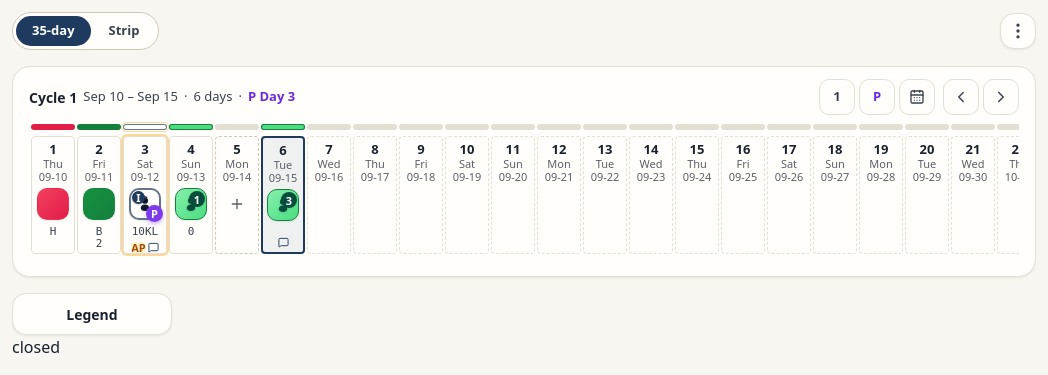
Test: ChartRow interactions › opens a saved day, a native button, with a click
Press a in the button with aria-label "Cycle Day 1, Date 2026-09-10", box [31,136,75,254]
Expected: the text with test id "drawer" reads "closed", [12,336,60,358]
Click the button with aria-label "Cycle Day 1, Date 2026-09-10": click(53, 195) [31,136,75,254]
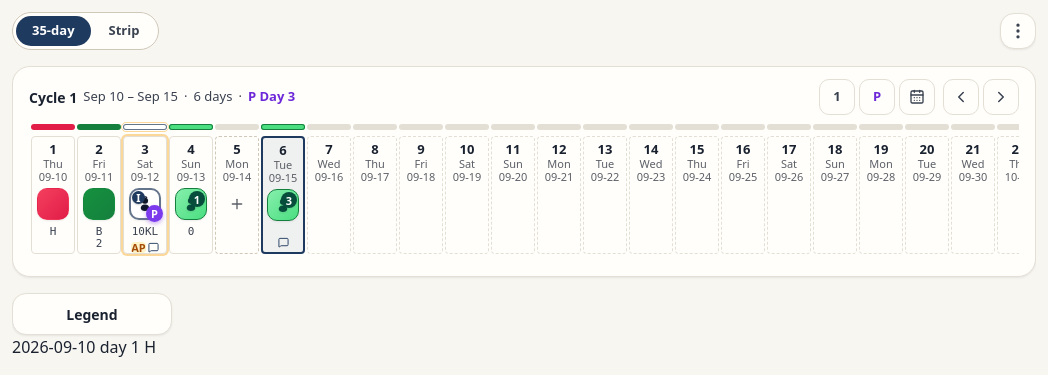
Now the text with test id "drawer" reads "2026-09-10 day 1 H", box [12,336,156,358]
